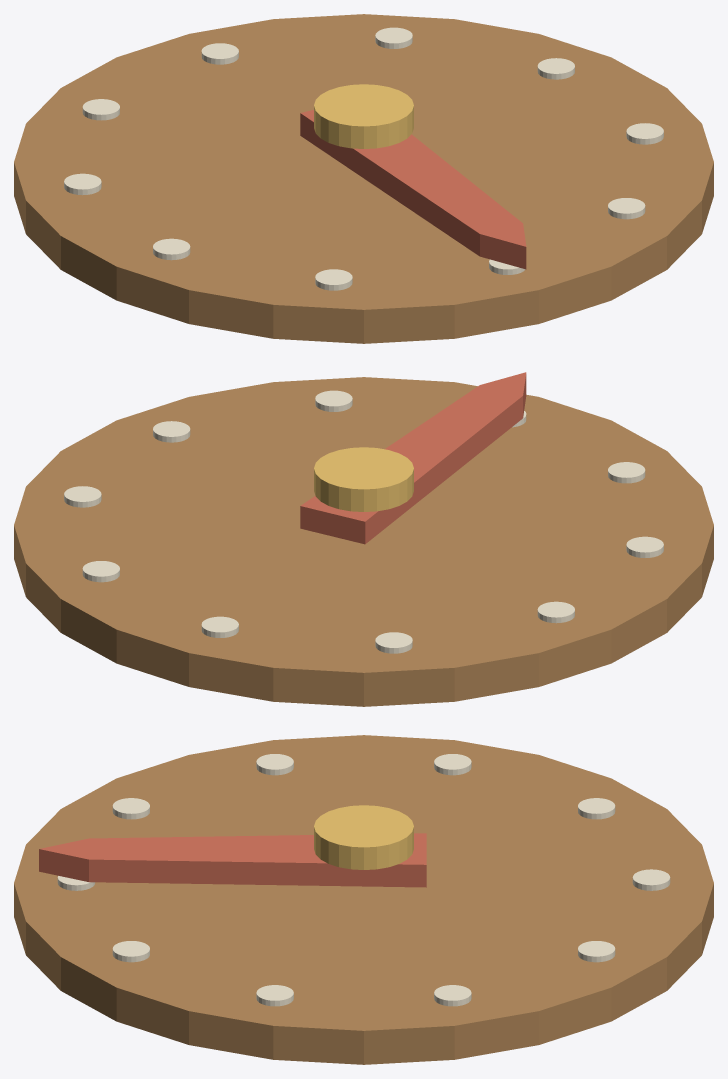
File: tabletop-game-components-number-dial-07da746e__20884.glb
3 views of the same model, one above another, from view 1: azimuth 30°, elevation 25°; view 2: azimuth 150°, elevation 25°; view 3: azimuth 270°, elevation 25° (orthographic).
Parts seen in each view (by area): view 1: number-dial, dial-pointer; view 2: number-dial, dial-pointer; view 3: number-dial, dial-pointer.
Boxes of the visible parts, x1=… form: number-dial: x1=14, y1=14, x2=713, y2=343; dial-pointer: x1=300, y1=110, x2=526, y2=269; number-dial: x1=14, y1=377, x2=713, y2=706; dial-pointer: x1=300, y1=372, x2=526, y2=544; number-dial: x1=14, y1=735, x2=713, y2=1064; dial-pointer: x1=39, y1=833, x2=426, y2=887.
Size of the model in its own units: 0.056 by 0.008 by 0.056.
